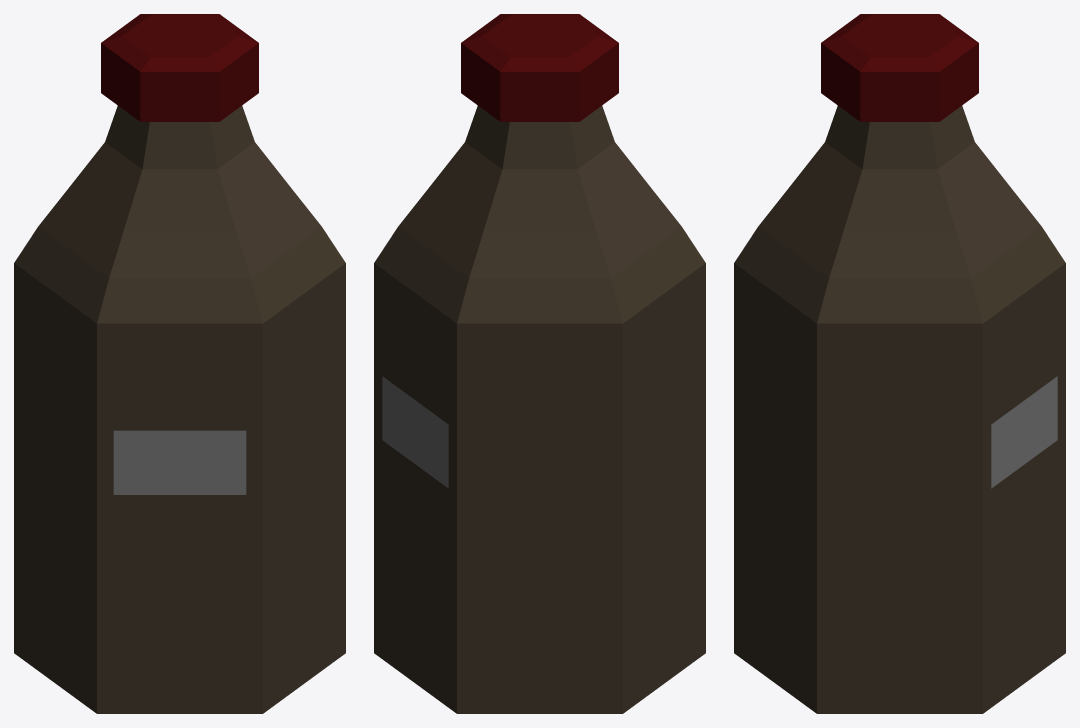
The model's file is Bottle.fbx.
The picture shows the model from 3 angles, left to right: view 1: azimuth 30°, elevation 25°; view 2: azimuth 150°, elevation 25°; view 3: azimuth 270°, elevation 25°; orthographic projection.
Parts seen in each view (by area): view 1: Bottle; view 2: Bottle; view 3: Bottle.
Part boxes in pixels (x1,y1,x2,y2): Bottle: (14, 14, 345, 713); Bottle: (374, 14, 705, 713); Bottle: (734, 14, 1065, 713).
Size of the model in its own units: 17.19 by 40.76 by 19.85.
